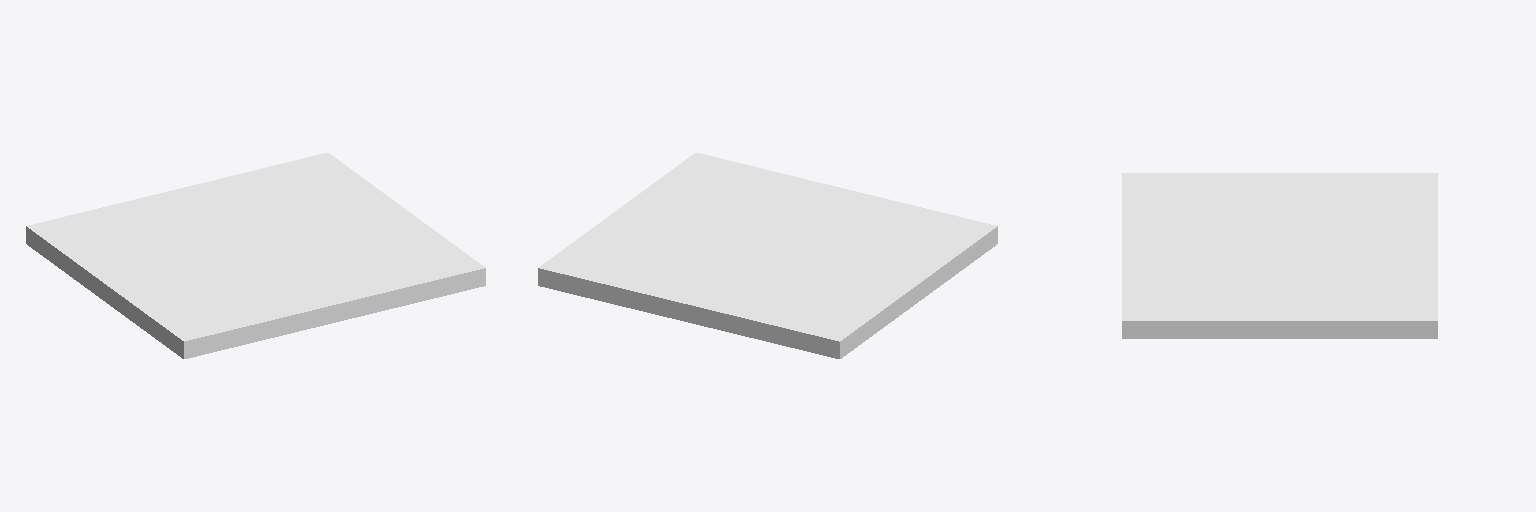
The model's file is alley_assets-2.obj.
The picture shows the model from 3 angles: view 1: azimuth 30°, elevation 25°; view 2: azimuth 150°, elevation 25°; view 3: azimuth 270°, elevation 25°; orthographic projection.
Parts seen in each view (by area): view 1: object 1; view 2: object 1; view 3: object 1.
Part boxes in pixels (x1,y1,x2,y2): object 1: (26, 153, 485, 358); object 1: (538, 153, 997, 358); object 1: (1122, 173, 1437, 338).
Size of the model in its own units: 5.3 by 0.3 by 4.8.